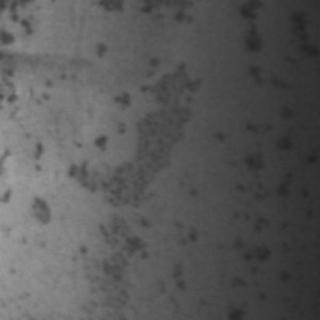pitted_surface: (193, 63, 314, 315), (69, 30, 201, 206), (66, 196, 194, 304), (0, 0, 54, 242)
